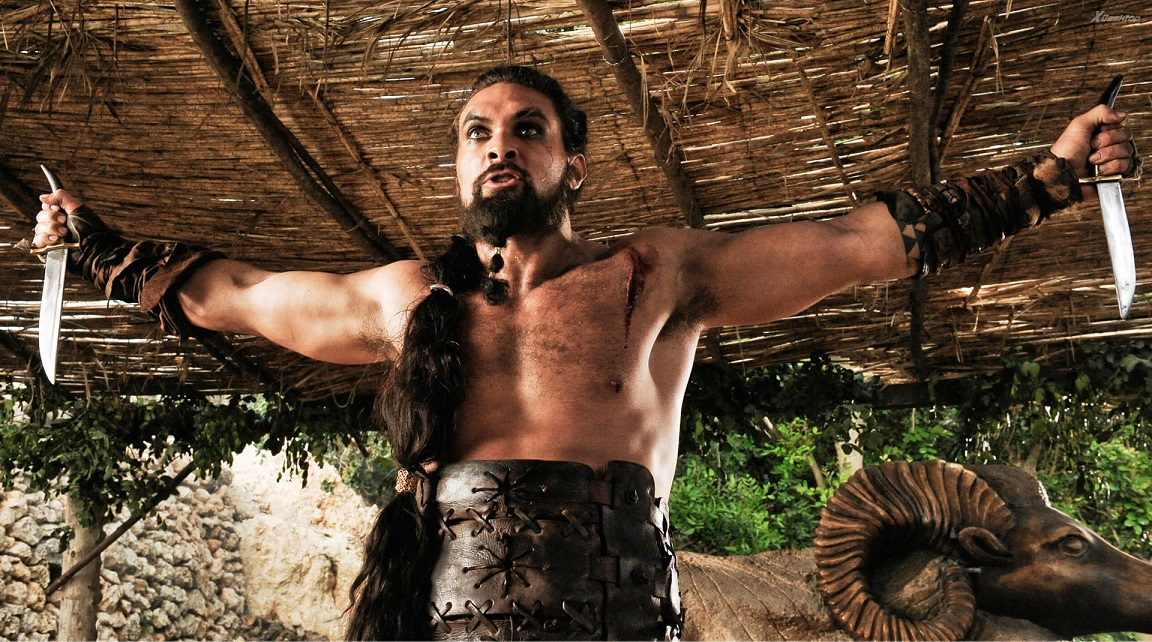knife: (1081, 112, 1152, 331), (26, 188, 80, 395)
